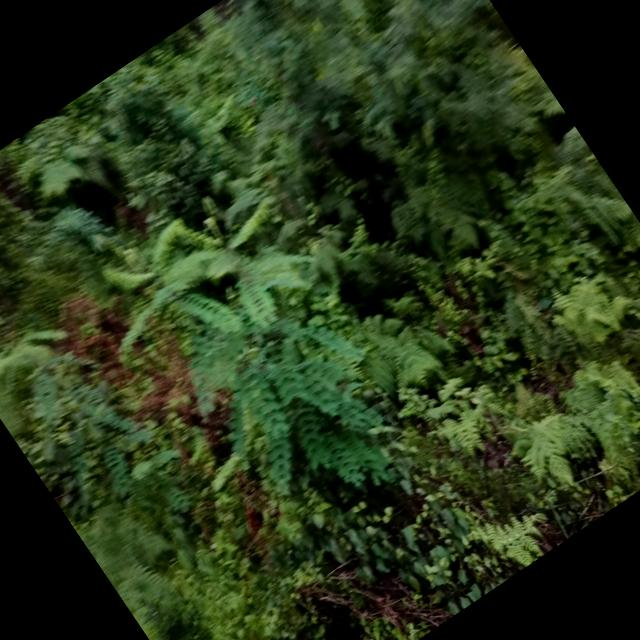Mysore-Thorn-Weed: (124, 192, 424, 532)
